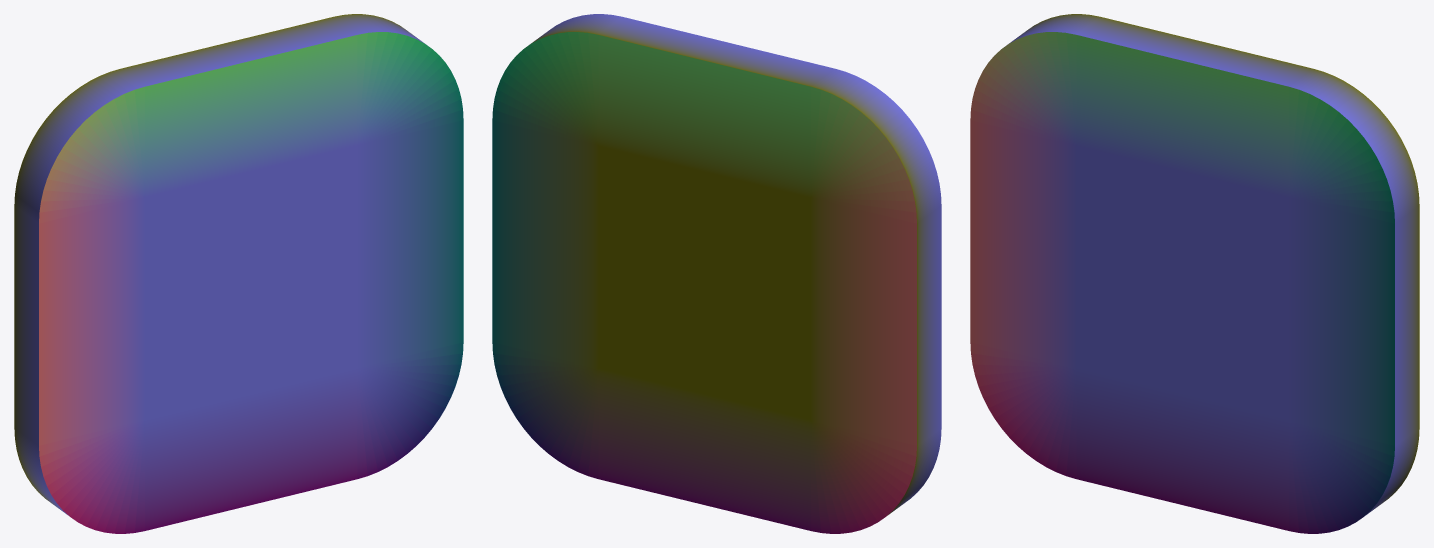
Rendered from thick_rounded16.fbx.
The picture shows the model from 3 angles, left to right: view 1: azimuth 30°, elevation 25°; view 2: azimuth 150°, elevation 25°; view 3: azimuth 330°, elevation 25°; orthographic projection.
Parts seen in each view (by area): view 1: rounded_edge; view 2: rounded_edge; view 3: rounded_edge.
Boxes of the visible parts, left/top/right/bottom form: rounded_edge: left=14, top=14, right=463, bottom=533; rounded_edge: left=492, top=14, right=941, bottom=533; rounded_edge: left=970, top=14, right=1419, bottom=533.
Bounding box in the file's own units: 1 × 1 × 0.1.
